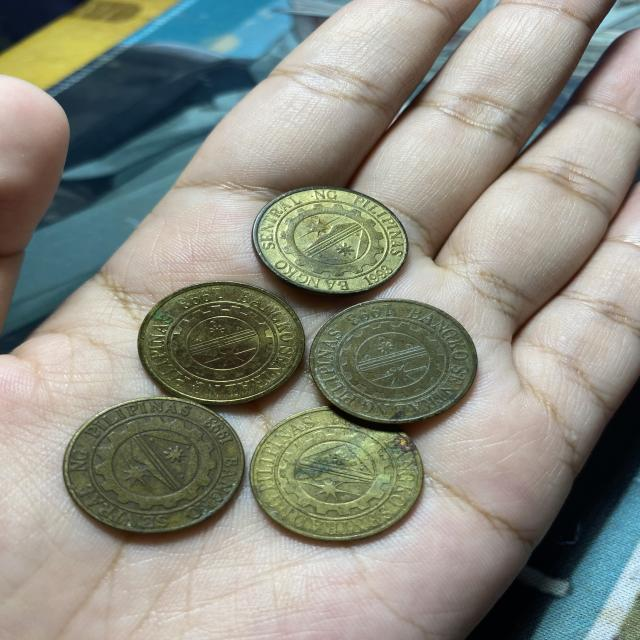25Cent_Old_Back: (64, 399, 248, 530), (248, 416, 430, 536), (138, 282, 302, 402), (314, 308, 468, 427), (246, 187, 410, 290)
